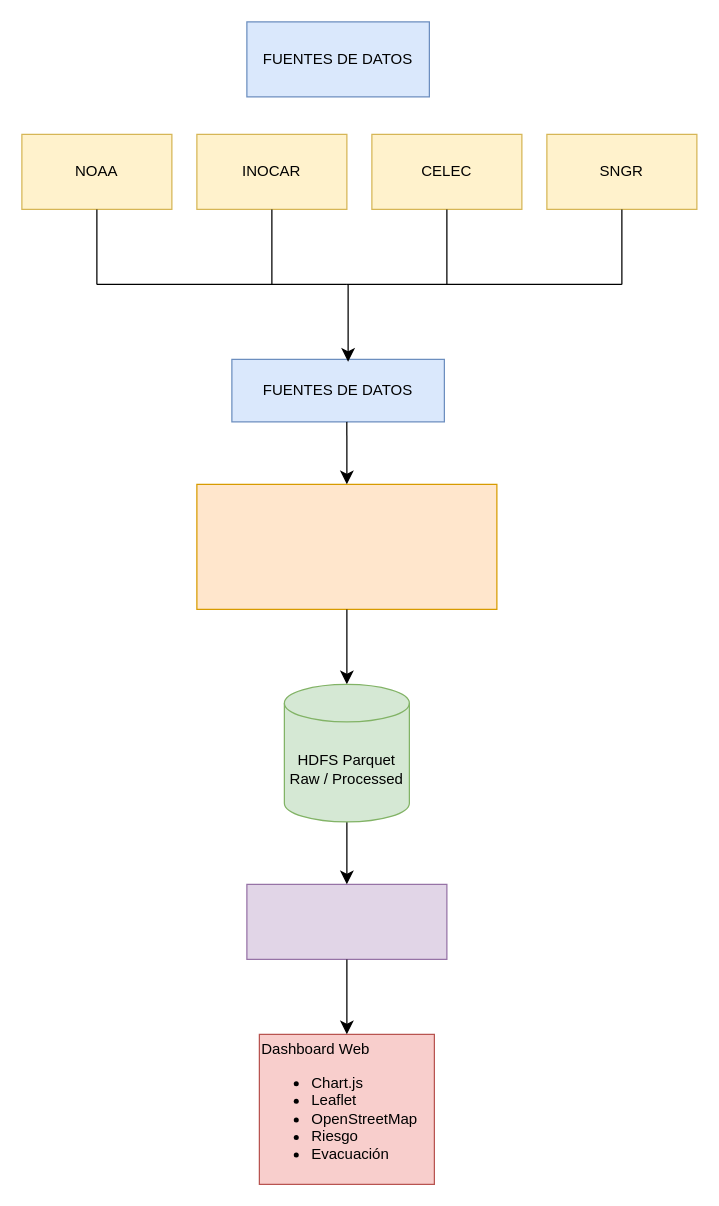
Some shapes in this 719 by 1206 pixel diagram are drawn without their labels. The centre of each missing label's shape, as x and y in pixels:
"Apache Spark Structured Stream Limpieza Transformación Indice de riesgo" goes at (x=346, y=546).
"FastAPI REST Endpoints" goes at (x=346, y=921).
